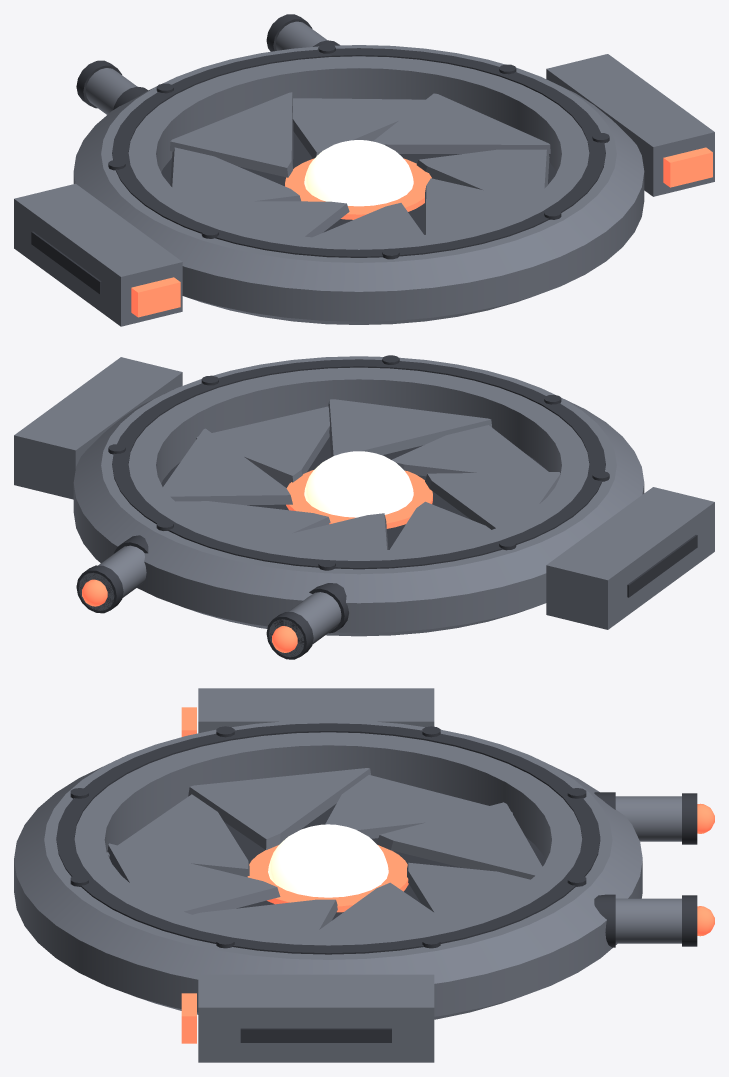
The model's file is drone_iris_6.glb.
The picture shows the model from 3 angles, top to bottom: view 1: azimuth 30°, elevation 25°; view 2: azimuth 150°, elevation 25°; view 3: azimuth 270°, elevation 25°; orthographic projection. The views are drawn at different scales.
Parts seen in each view (by area): view 1: drone_iris_6; view 2: drone_iris_6; view 3: drone_iris_6.
Boxes of the visible parts, <box> form: drone_iris_6: <box>14,14,714,326</box>; drone_iris_6: <box>14,355,714,659</box>; drone_iris_6: <box>14,688,714,1062</box>.
Bounding box in the file's own units: 2.52 × 0.28 × 2.32.
